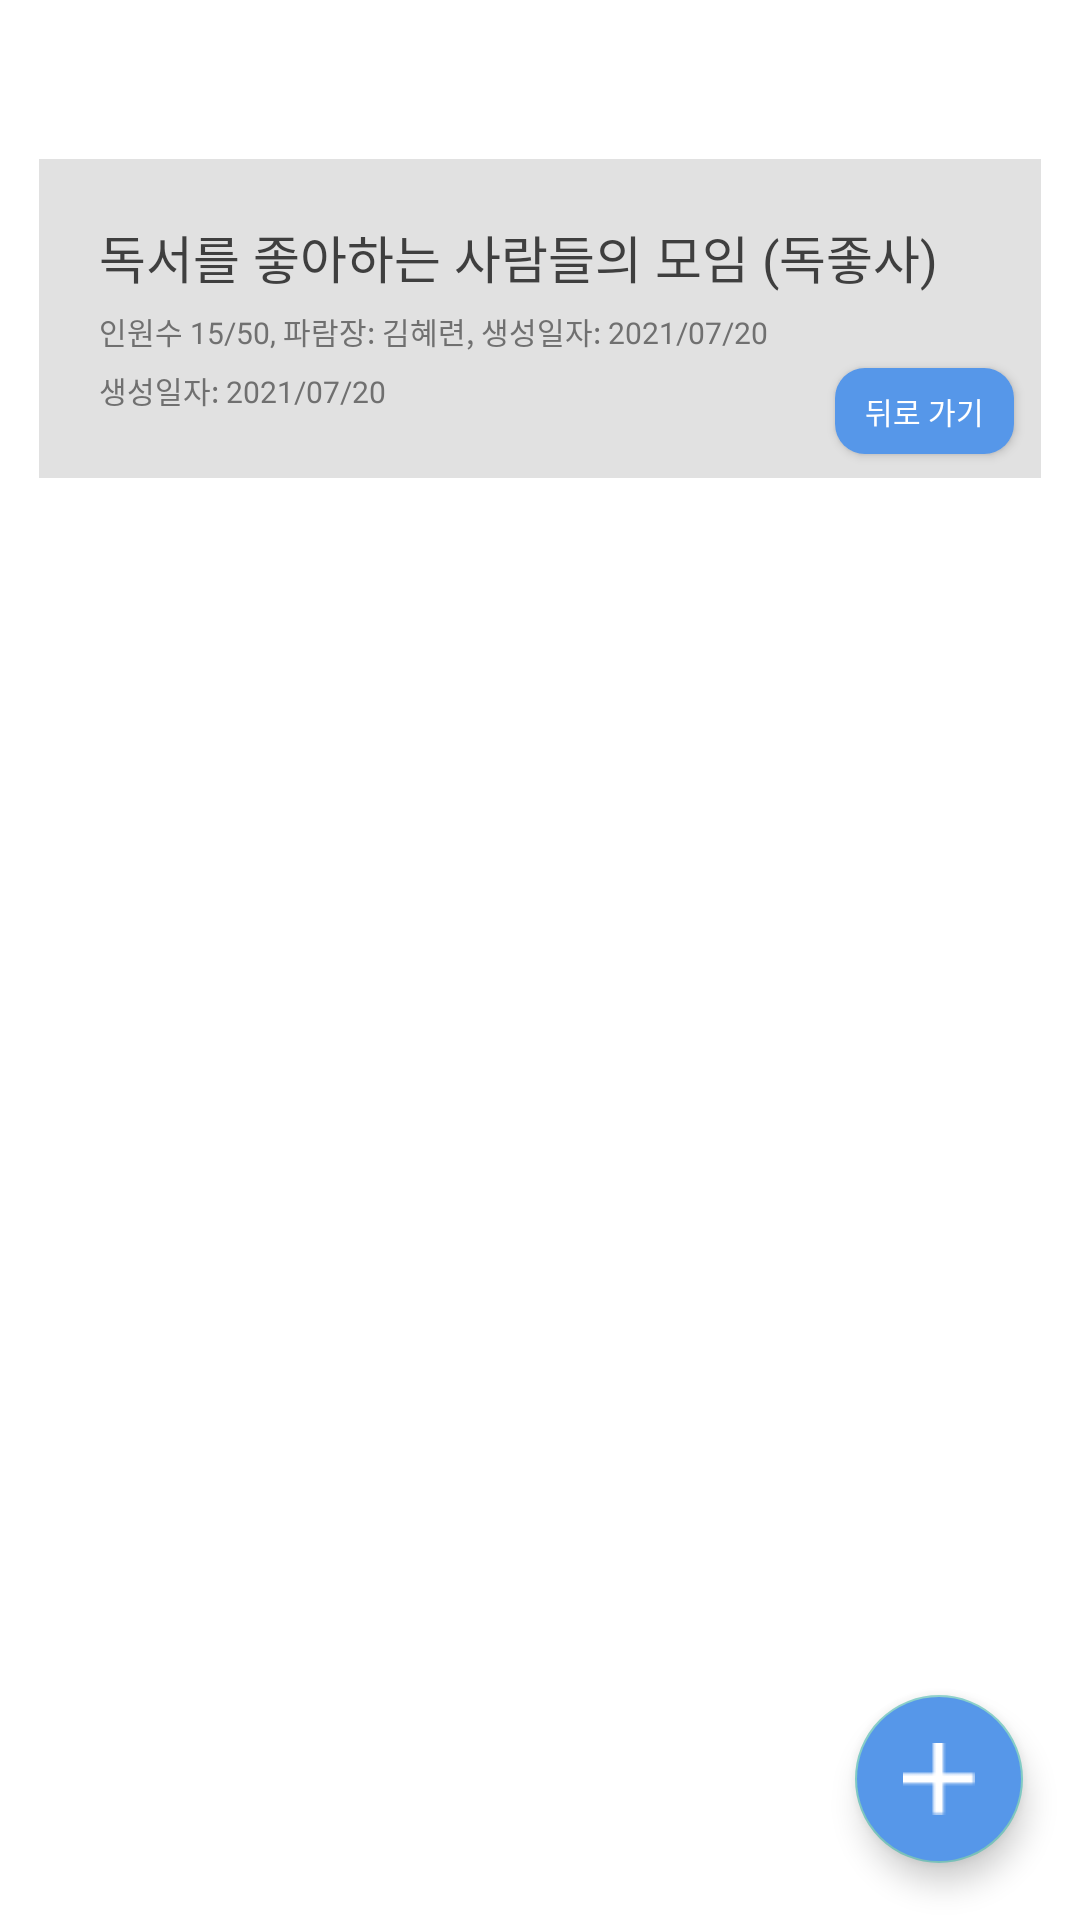

Locate icon controls on the screen. Image size 1080w x 1920h, boxes as bbox=[x1, y1, x2, y2].
plus: bbox=[855, 1695, 1023, 1863]
